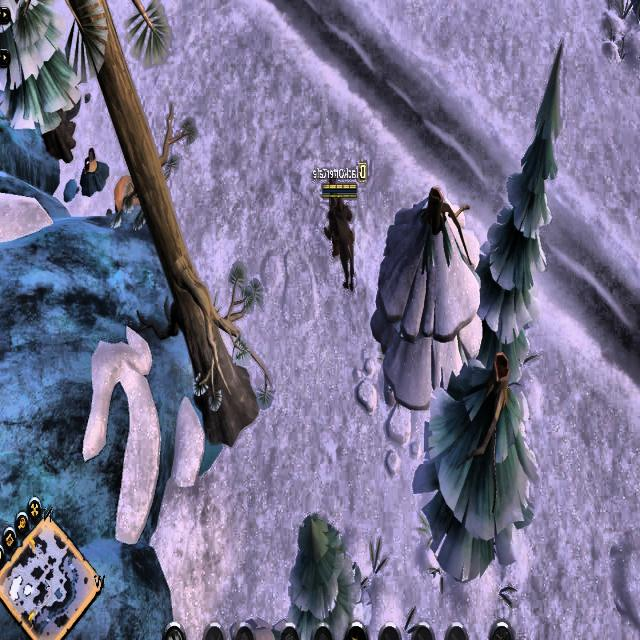copperore: (75, 144, 112, 198)
